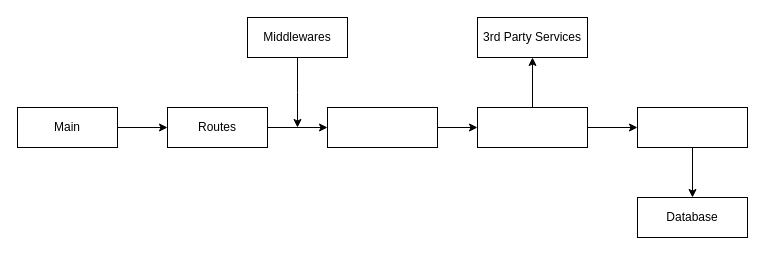
The diagram is 765 pixels wide and 255 high, and some of its shapes have lost their labels. Here are the shapes that lost their labels. From the top down, the box of each, then its label:
(326, 106, 438, 148): Controllers
(476, 106, 588, 148): Services
(636, 106, 748, 148): Repository
